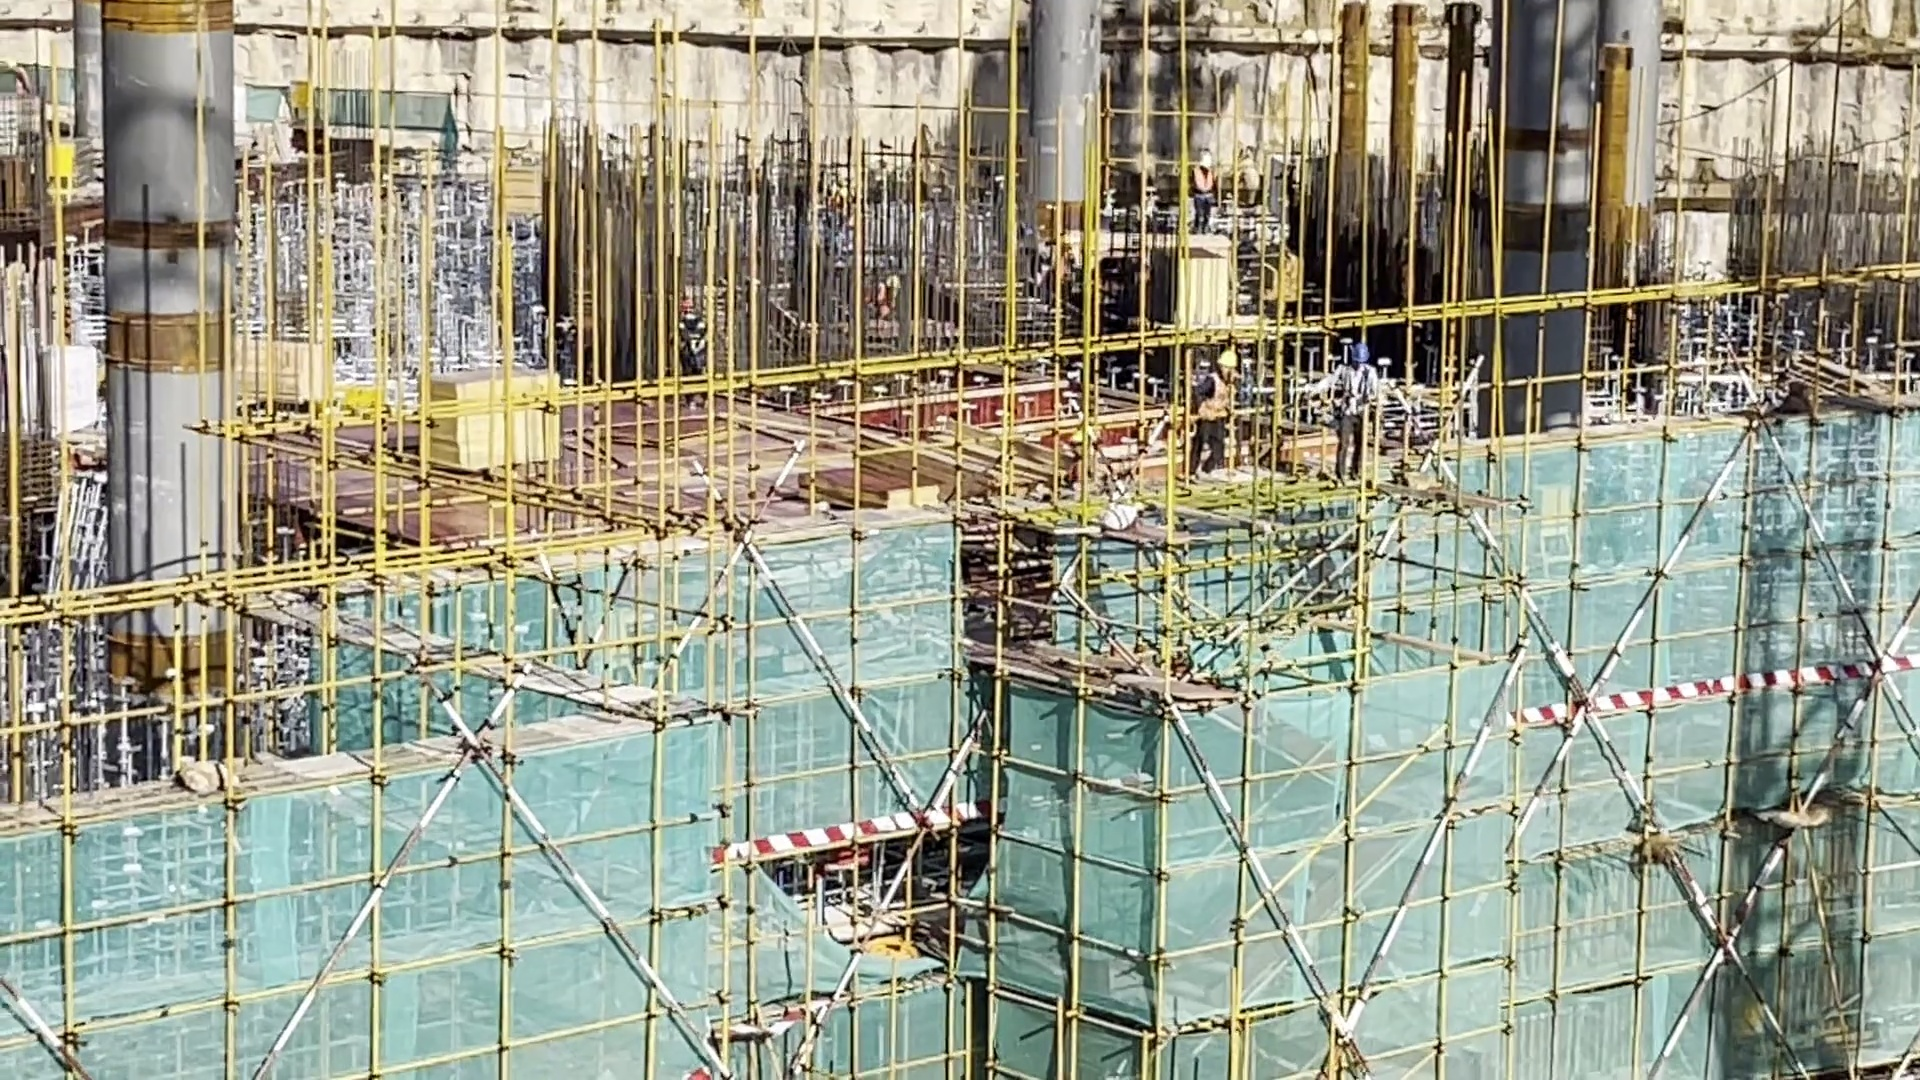helmet: (530, 304, 554, 329), (1223, 348, 1239, 371), (1071, 427, 1087, 451), (1348, 347, 1371, 361), (685, 299, 706, 314), (883, 276, 901, 289), (1061, 233, 1074, 251), (1200, 163, 1212, 173)
person: (673, 288, 710, 413), (1201, 348, 1237, 466), (1339, 333, 1363, 492), (526, 313, 578, 378), (1056, 430, 1091, 484), (1052, 231, 1072, 319), (1195, 159, 1211, 247), (877, 283, 903, 321)
vest: (679, 315, 715, 375), (1196, 374, 1238, 421), (1179, 167, 1218, 207), (1336, 362, 1373, 404), (556, 315, 585, 364), (875, 285, 905, 318), (1062, 250, 1075, 294), (1066, 456, 1083, 479)
